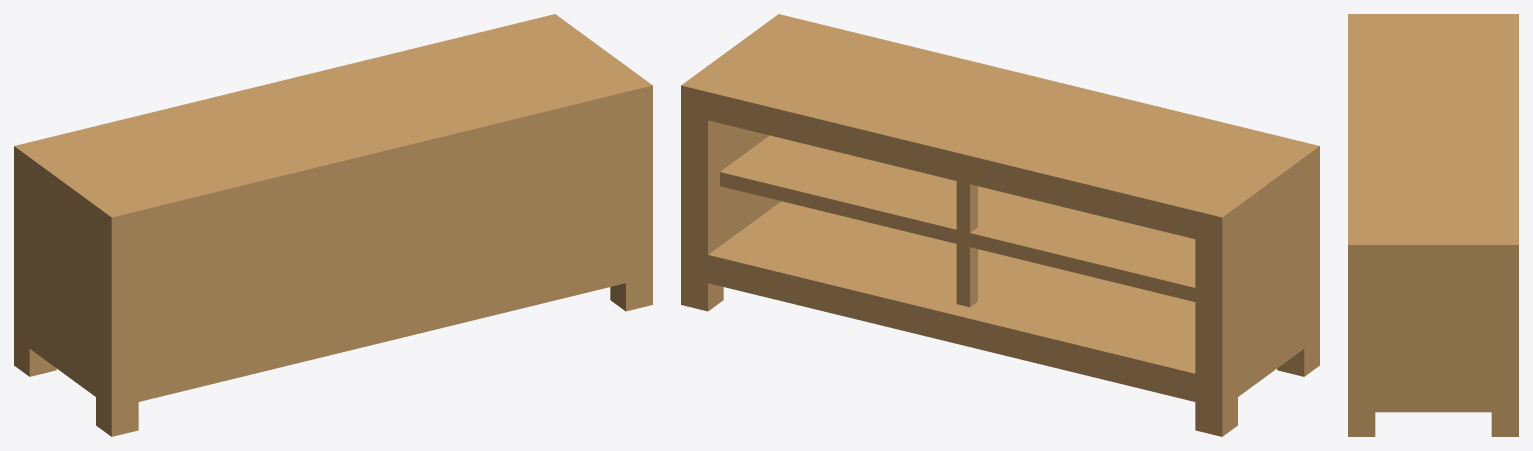
File: cabinetTelevision.glb
3 views of the same model, side by side, from view 1: azimuth 30°, elevation 25°; view 2: azimuth 150°, elevation 25°; view 3: azimuth 270°, elevation 25° (orthographic). The views are drawn at different scales.
Size of the model in its own units: 8 by 3.1 by 2.5.
